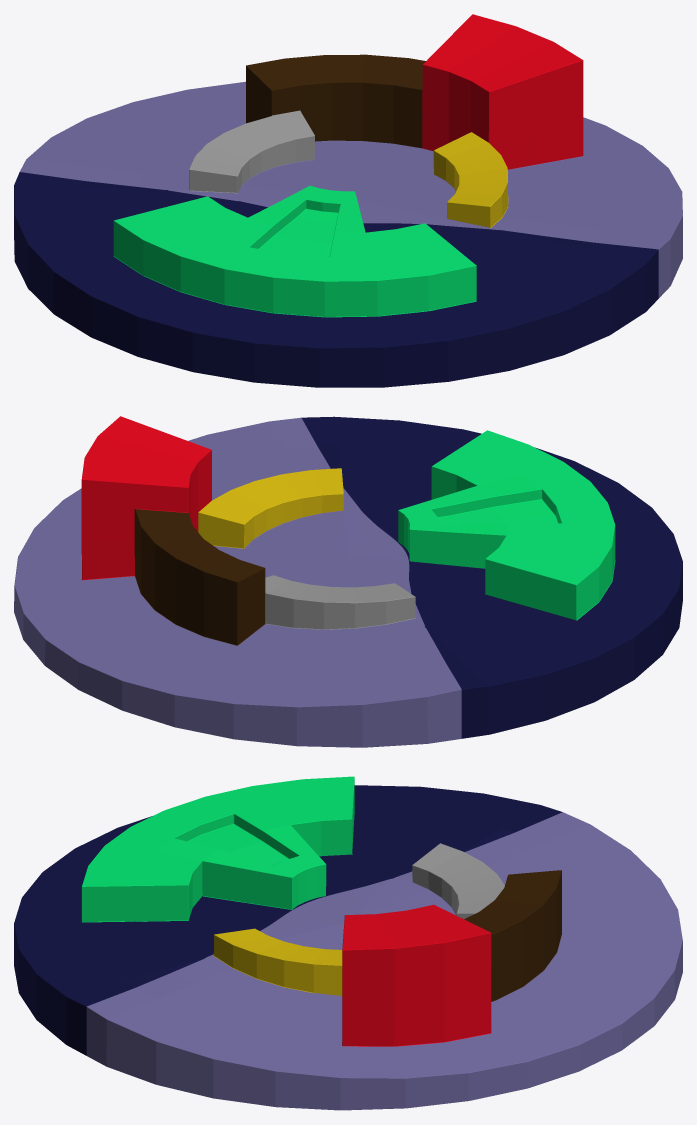
Rendered from socle_scene.fbx.
The picture shows the model from 3 angles, top to bottom: view 1: azimuth 30°, elevation 25°; view 2: azimuth 150°, elevation 25°; view 3: azimuth 270°, elevation 25°; orthographic projection.
Parts seen in each view (by area): view 1: Socle.001; view 2: Socle.001; view 3: Socle.001.
Boxes of the visible parts, bbox=[...] form: Socle.001: bbox=[14, 14, 682, 387]; Socle.001: bbox=[14, 416, 682, 747]; Socle.001: bbox=[14, 776, 682, 1110].
Bounding box in the file's own units: 1499 × 326 × 1499.
